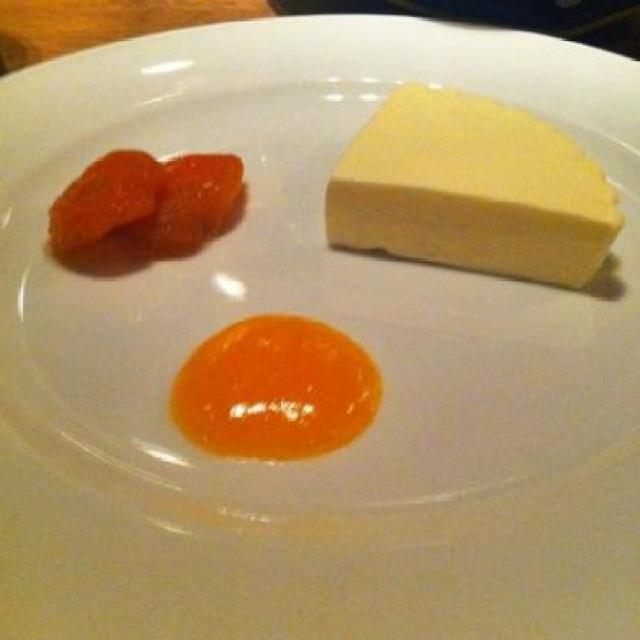Rare cheese cake: (296, 56, 638, 356)
